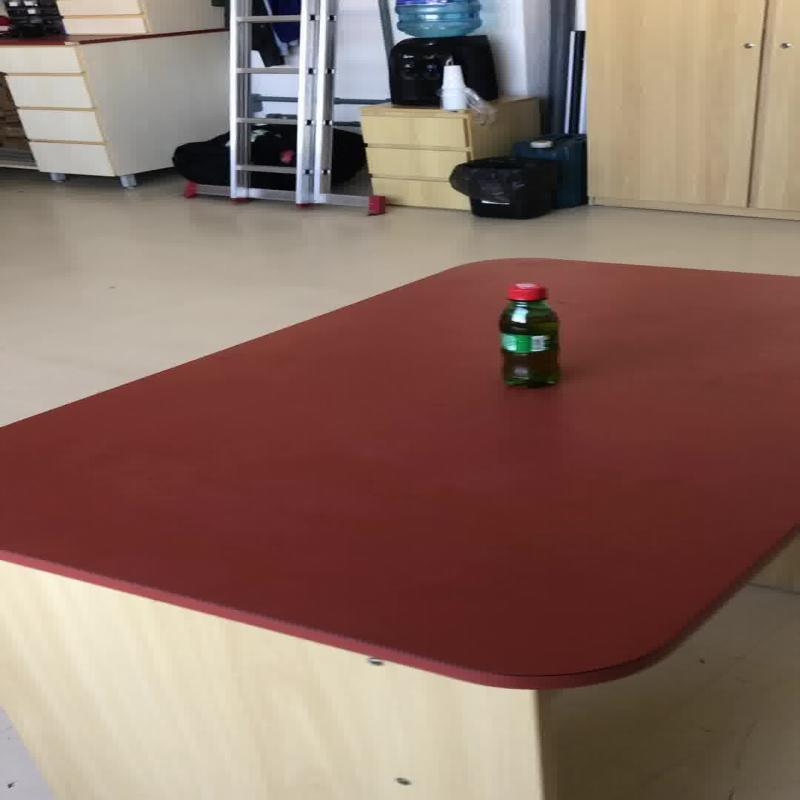guarana: (496, 281, 560, 387)
